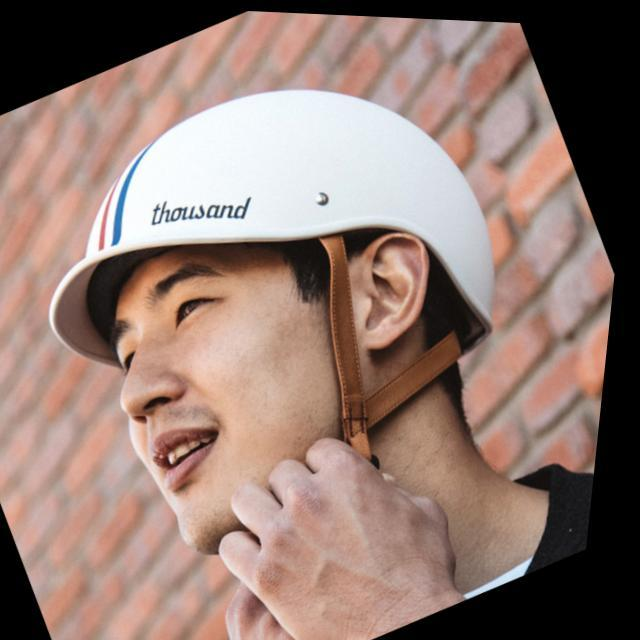Helmet: (47, 80, 502, 564)
